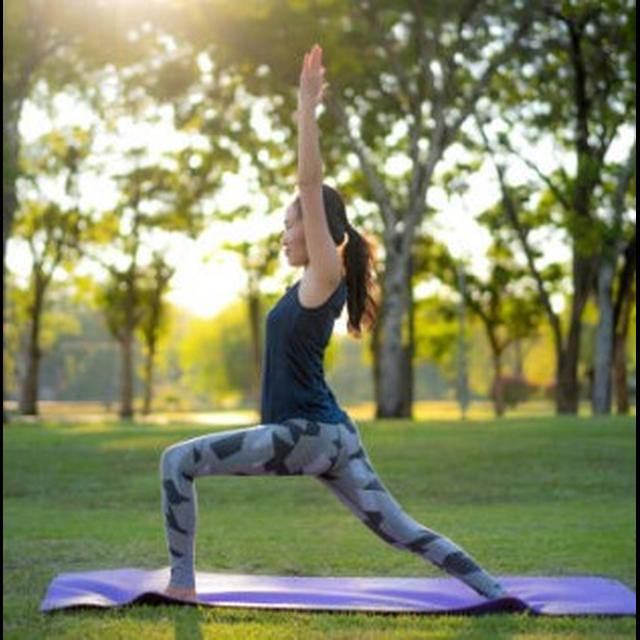Warrior_I: (136, 36, 537, 615)
